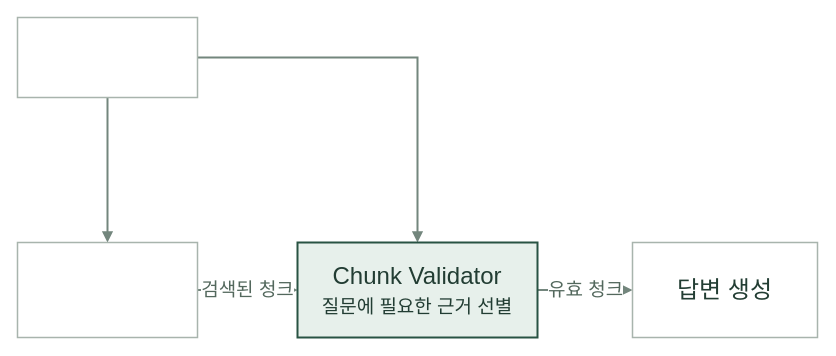
Image size: 836x356. Some labels were removed from this diagram. The centre of each missing label's shape, as x and y in pixels:
"문서 검색" goes at [107,289].
"사용자 질문" goes at [107,57].
